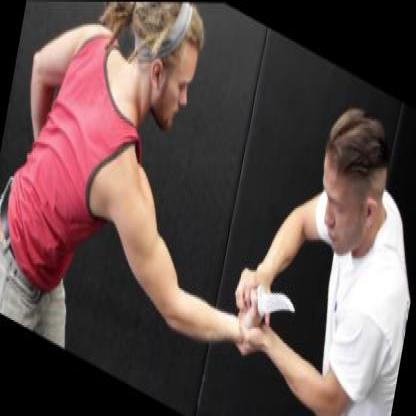knife: (237, 264, 304, 344)
